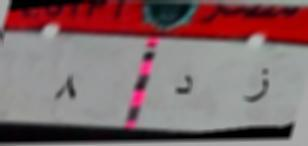8: (53, 70, 80, 106)
daal: (172, 69, 197, 104)
zay: (236, 64, 277, 105)
